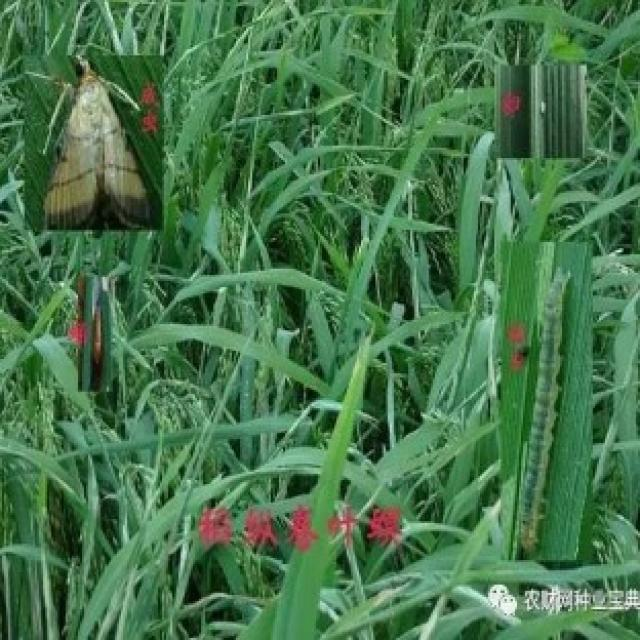rice leaf roller: (41, 55, 154, 226), (519, 267, 568, 544)
